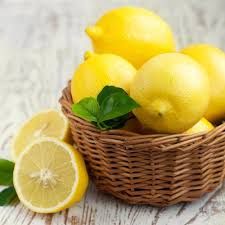Lemon: (126, 45, 205, 124), (65, 49, 145, 125), (83, 8, 176, 59)
